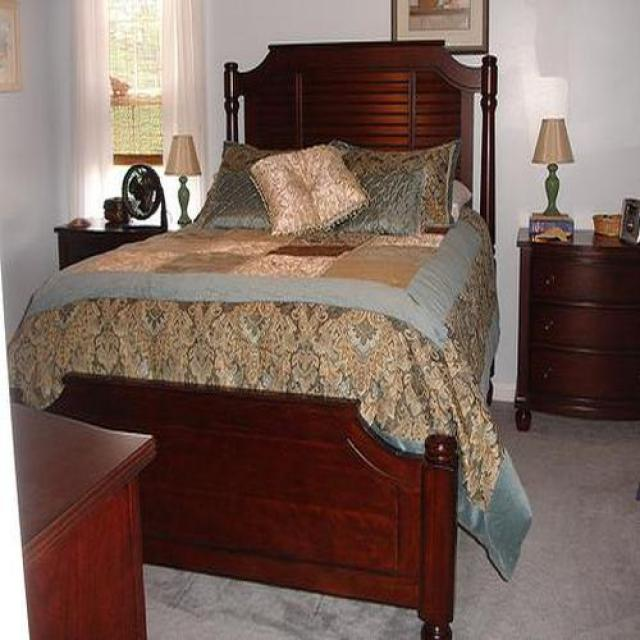bed: (8, 41, 532, 640)
